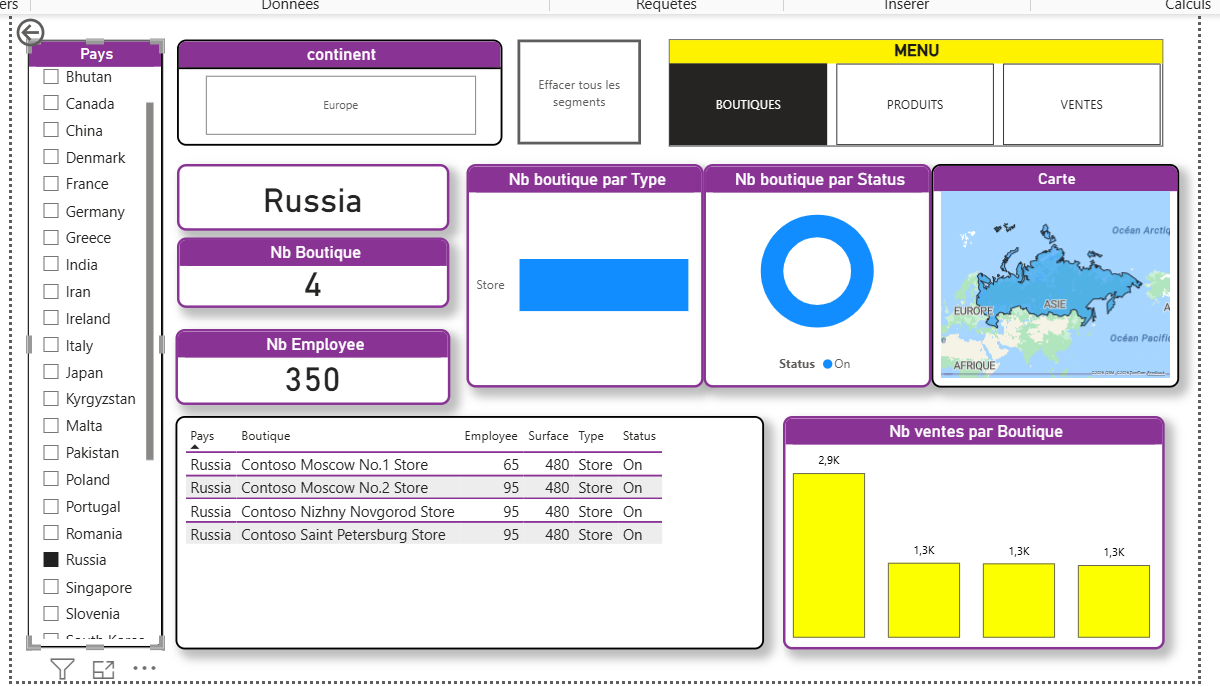

The page's visual inventory and layout, read from the dashboard file:
{"tool":"powerbi","page":{"name":"BOUTIQUES","canvas":[1280,720],"ordinal":0},"visuals":[{"type":"slicer","title":"continent","fields":{"Values":["Geographie.Continent"]},"box":[178.1,27.5,351.4,115],"z":0},{"type":"card","fields":{"Values":["Geographie.paysSelected"]},"box":[178,162,294,72],"z":1000},{"type":"card","title":"Nb Boutique","fields":{"Values":["Boutiques.Nb boutique"]},"box":[178,242,294,76],"z":2000},{"type":"card","title":"Nb Employee","fields":{"Values":["Sum(Boutiques.Employee)"]},"box":[176.7,340,296.7,81.7],"z":3000},{"type":"funnel","fields":{"Category":["Boutiques.Type"],"Y":["Boutiques.Nb boutique"]},"box":[490.6,161.9,255.8,241.3],"z":4000},{"type":"donutChart","fields":{"Y":["Boutiques.Nb boutique"],"Category":["Boutiques.Status"]},"box":[746.5,161.9,246.1,241.3],"z":5000},{"type":"azureMap","title":"Carte","fields":{"Category":["Geographie.Pays","Geographie.Continent"]},"box":[992.6,161.9,267.2,241.3],"z":6000},{"type":"slicer","title":"Pays","fields":{"Values":["Geographie.Pays"]},"box":[16.7,28.3,146.7,656.7],"z":7000},{"type":"tableEx","fields":{"Values":["Geographie.Pays","Boutiques.Boutique","Boutiques.Employee","Boutiques.Surface","Boutiques.Type","Boutiques.Status"]},"box":[176.7,433.3,635,251.7],"z":8000},{"type":"actionButton","box":[0,0,100,40],"z":9000},{"type":"columnChart","fields":{"Category":["Boutiques.Boutique"],"Y":["Sales.Nb ventes"]},"box":[831.7,433.3,411.7,251.7],"z":10000},{"type":"actionButton","box":[545,28.3,133.3,113.3],"z":11000},{"type":"pageNavigator","title":"MENU","box":[710,28.3,533.3,115],"z":11001}]}

Visuals, with their boxes in screenshot pixels (x1, y1, x2, y2):
"continent" slicer: locate(164, 32, 495, 140)
card - Geographie.paysSelected: locate(164, 159, 440, 226)
"Nb Boutique" card: locate(164, 234, 440, 305)
"Nb Employee" card: locate(163, 326, 442, 403)
funnel - Boutiques.Type x Boutiques.Nb boutique: locate(458, 159, 698, 385)
donutChart - Boutiques.Nb boutique x Boutiques.Status: locate(698, 159, 930, 385)
"Carte" azureMap: locate(930, 159, 1181, 385)
"Pays" slicer: locate(13, 33, 150, 650)
tableEx - Geographie.Pays x Boutiques.Boutique: locate(163, 414, 760, 650)
actionButton: locate(0, 6, 91, 44)
columnChart - Boutiques.Boutique x Sales.Nb ventes: locate(779, 414, 1166, 650)
actionButton: locate(509, 33, 634, 139)
"MENU" pageNavigator: locate(664, 33, 1165, 141)
